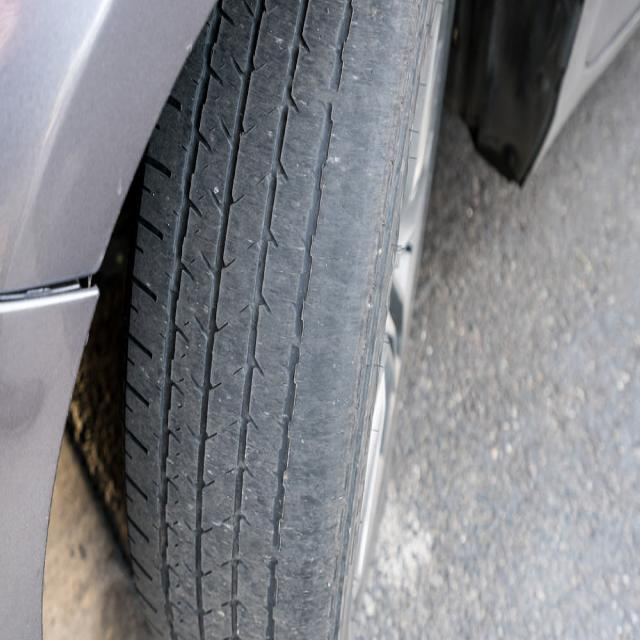Flat spots: (142, 143, 339, 639)
